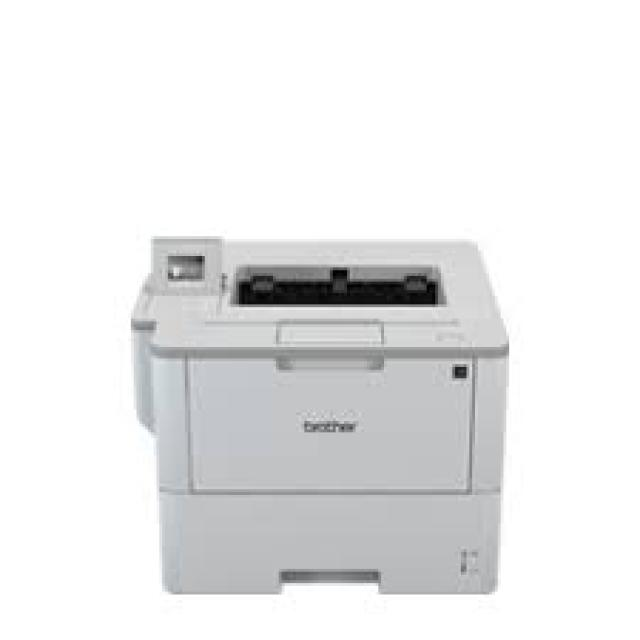printer: (128, 233, 509, 594)
